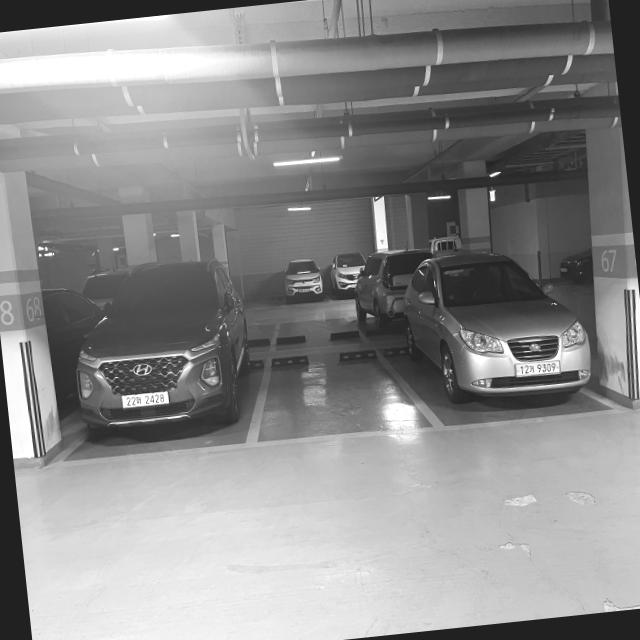car: (52, 214, 246, 465), (394, 243, 592, 433), (588, 0, 611, 36)
free: (241, 344, 440, 454)
